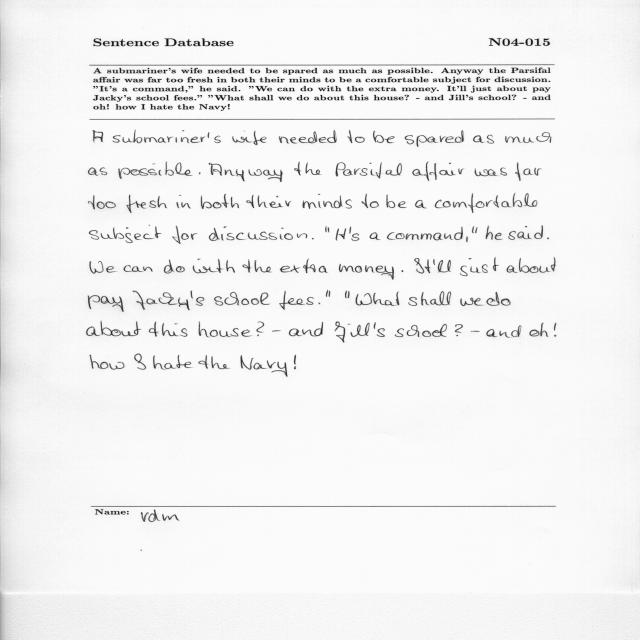word: (435, 193, 537, 213), (209, 226, 307, 241), (209, 163, 283, 182), (113, 130, 221, 143), (133, 291, 204, 310), (89, 225, 162, 243), (119, 162, 193, 179), (336, 162, 402, 179), (335, 322, 385, 343), (241, 355, 288, 377), (404, 130, 464, 147), (413, 162, 465, 181), (387, 227, 463, 240), (339, 264, 394, 280), (279, 130, 337, 144), (87, 322, 141, 337), (507, 257, 557, 273), (199, 322, 252, 337), (214, 292, 270, 306), (126, 194, 167, 213), (302, 194, 352, 209), (460, 257, 499, 276), (279, 290, 314, 310), (395, 324, 447, 337), (280, 259, 328, 273), (408, 291, 451, 306), (193, 259, 235, 274), (88, 295, 124, 312), (149, 321, 187, 337), (356, 292, 399, 306), (247, 195, 292, 208), (153, 355, 192, 370), (201, 194, 239, 209), (508, 225, 543, 240), (90, 355, 125, 370), (515, 162, 542, 181), (506, 132, 552, 143), (232, 131, 267, 145), (289, 322, 323, 336), (172, 226, 198, 244), (487, 325, 522, 338), (198, 355, 230, 369), (88, 195, 116, 209), (242, 260, 271, 273), (294, 162, 321, 175), (486, 292, 511, 306), (90, 261, 116, 274), (164, 260, 185, 274), (475, 168, 507, 177), (530, 323, 549, 337), (373, 131, 395, 143), (387, 195, 407, 208), (486, 225, 503, 240), (414, 258, 431, 273), (361, 194, 379, 208), (347, 130, 365, 143), (433, 260, 451, 273), (124, 265, 153, 272), (460, 298, 484, 306), (134, 354, 146, 370), (473, 135, 494, 144), (177, 195, 191, 208), (89, 167, 108, 176), (350, 226, 360, 241), (93, 130, 103, 142), (336, 229, 346, 241), (256, 322, 264, 336), (415, 200, 427, 208), (455, 324, 463, 336), (370, 232, 381, 240), (472, 226, 478, 233), (345, 291, 349, 299), (326, 290, 330, 297), (554, 323, 556, 337), (294, 355, 296, 369), (325, 226, 329, 232), (272, 330, 281, 332), (466, 236, 468, 242), (471, 331, 480, 332), (312, 238, 314, 240), (547, 238, 549, 240), (402, 270, 404, 272), (199, 173, 200, 175), (319, 303, 321, 304)
